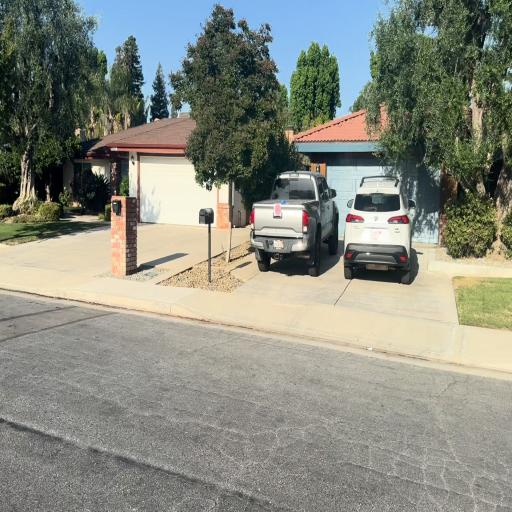bullseye: (274, 203, 281, 216)
